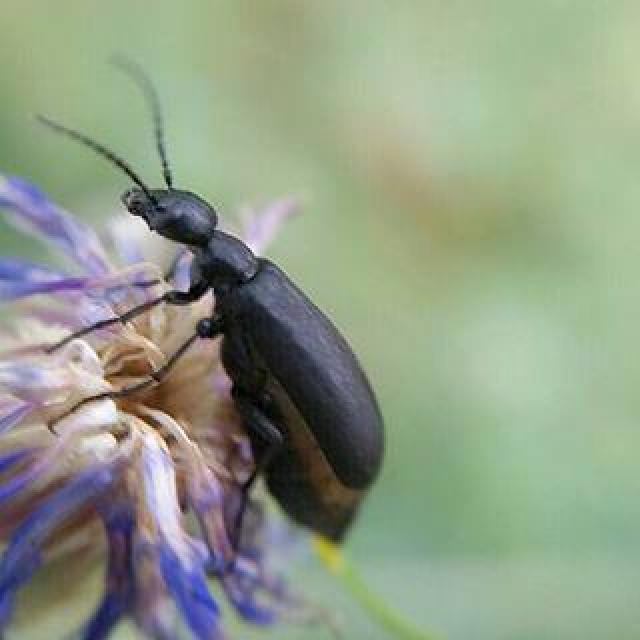BlisterBeetle-Adult-: (27, 38, 396, 586)
